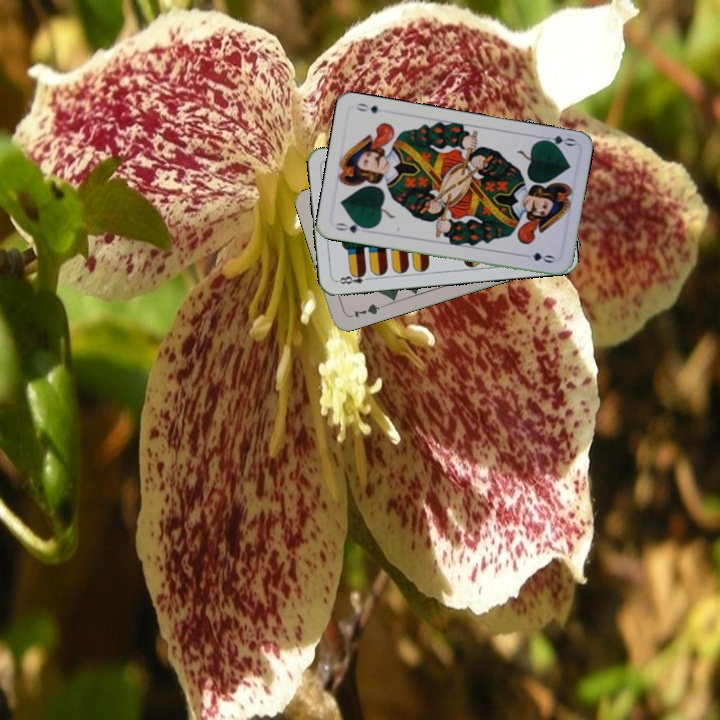E8: (333, 268, 374, 286)
G7: (345, 300, 385, 320)
GO: (536, 131, 577, 150), (331, 218, 371, 236)
